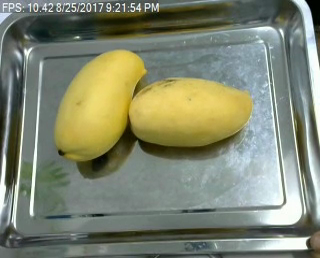Mango: (53, 49, 149, 165), (129, 76, 251, 147)
